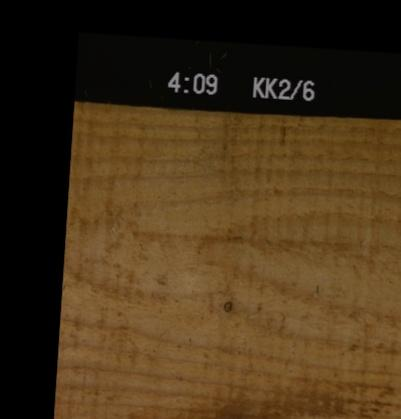dry_knot: (221, 299, 232, 311)
